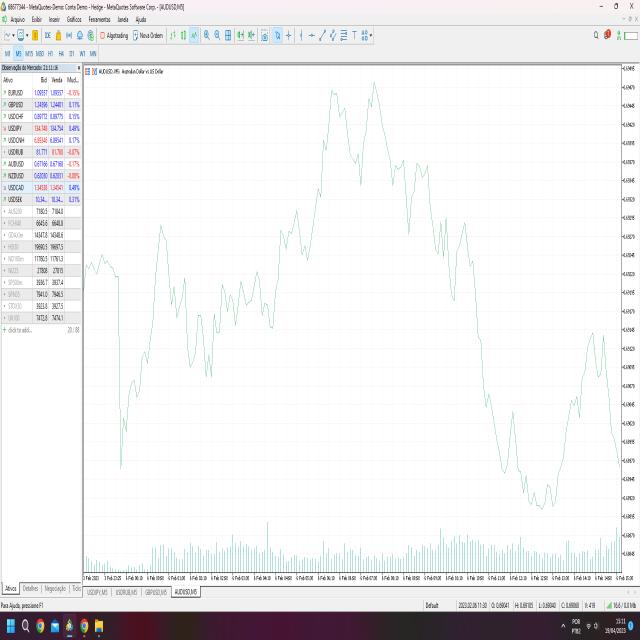fundo_duplo: (200, 328, 218, 394)
topo_duplo: (311, 70, 406, 258), (555, 300, 619, 475)
